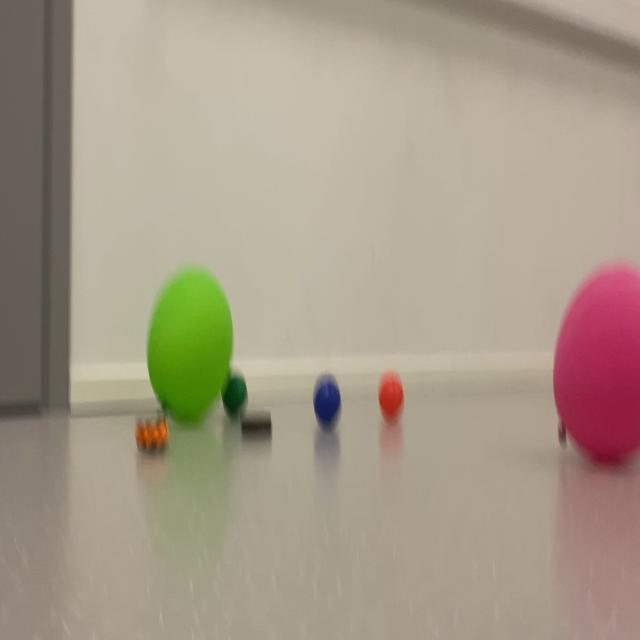7: (367, 328, 405, 438)
green ball: (300, 365, 349, 454)
red ball: (221, 340, 258, 445)
